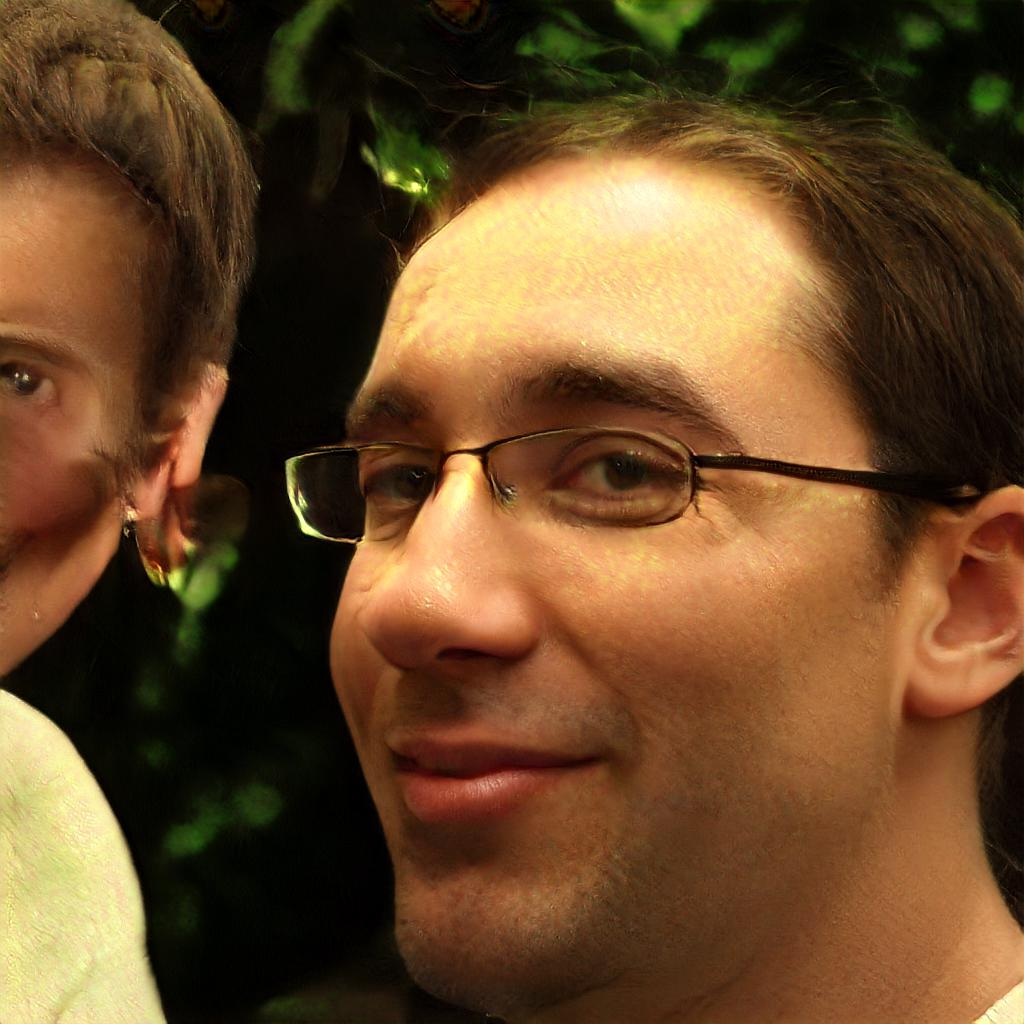face: (327, 164, 909, 1011)
